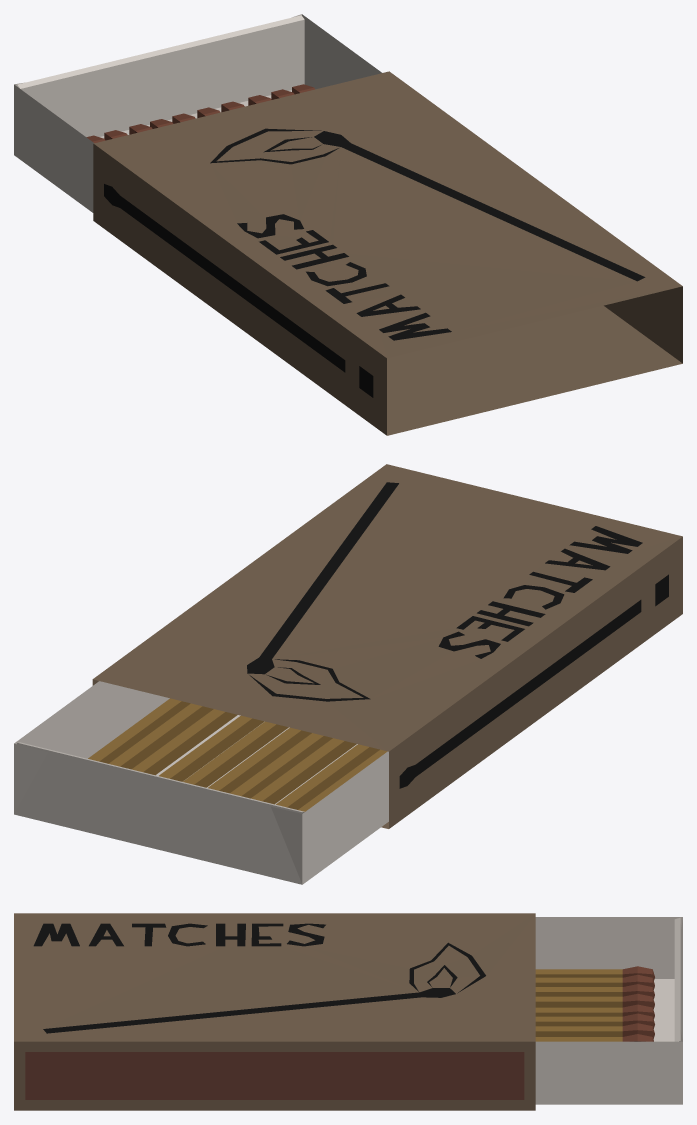
File: matches.fbx
3 views of the same model, one above another, from view 1: azimuth 30°, elevation 25°; view 2: azimuth 150°, elevation 25°; view 3: azimuth 270°, elevation 25° (orthographic). The views are drawn at different scales.
Visible parts, largest first — view 1: outside_generic, inside; view 2: outside_generic, inside, unused.007, unused.008, unused.009, unused.004, unused.010, unused.003, unused.006, unused.005, unused.011, unused.002; view 3: outside_generic, inside, unused.003, unused.006, unused.005, unused.002, unused.001, unused.004, unused, unused.007.
Part boxes in pixels (x1=…): outside_generic: x1=93, y1=71, x2=682, y2=435; inside: x1=14, y1=14, x2=381, y2=212; outside_generic: x1=92, y1=464, x2=682, y2=828; inside: x1=14, y1=681, x2=388, y2=884; unused.007: x1=183, y1=721, x2=288, y2=787; unused.008: x1=159, y1=715, x2=264, y2=781; unused.009: x1=131, y1=709, x2=237, y2=775; unused.004: x1=251, y1=738, x2=356, y2=804; unused.010: x1=109, y1=703, x2=213, y2=769; unused.003: x1=276, y1=744, x2=379, y2=809; unused.006: x1=208, y1=727, x2=311, y2=793; unused.005: x1=230, y1=733, x2=332, y2=798; unused.011: x1=88, y1=698, x2=190, y2=763; unused.002: x1=298, y1=749, x2=387, y2=811; outside_generic: x1=14, y1=913, x2=535, y2=1110; inside: x1=535, y1=917, x2=682, y2=1104; unused.003: x1=535, y1=993, x2=654, y2=1009; unused.006: x1=535, y1=1023, x2=654, y2=1038; unused.005: x1=535, y1=1013, x2=654, y2=1028; unused.002: x1=535, y1=984, x2=654, y2=998; unused.001: x1=535, y1=974, x2=654, y2=989; unused.004: x1=535, y1=1004, x2=654, y2=1019; unused: x1=535, y1=966, x2=654, y2=980; unused.007: x1=535, y1=1034, x2=653, y2=1041.
Size of the model in its own units: 96.3 by 24.08 by 212.
